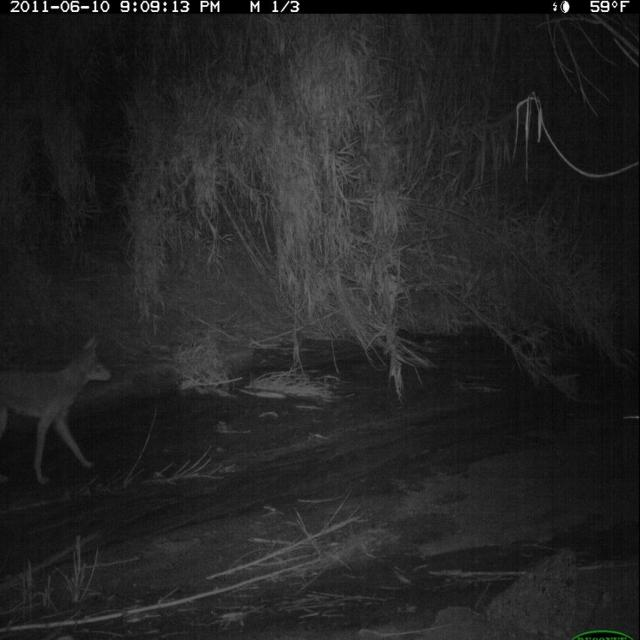coyote: (3, 326, 121, 492)
